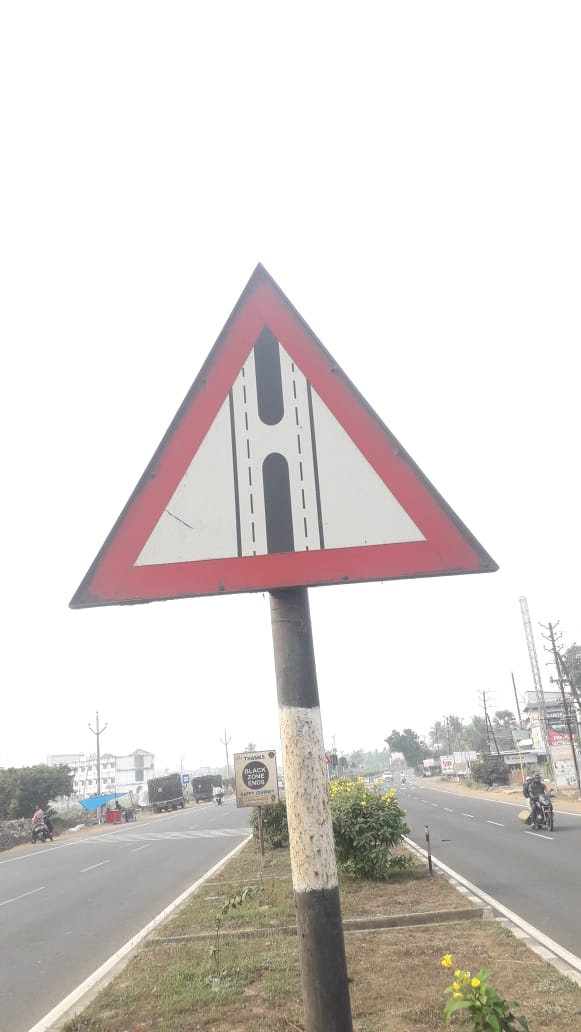highway go straight: (66, 238, 540, 642)
